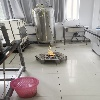fire: (46, 45, 55, 56)
